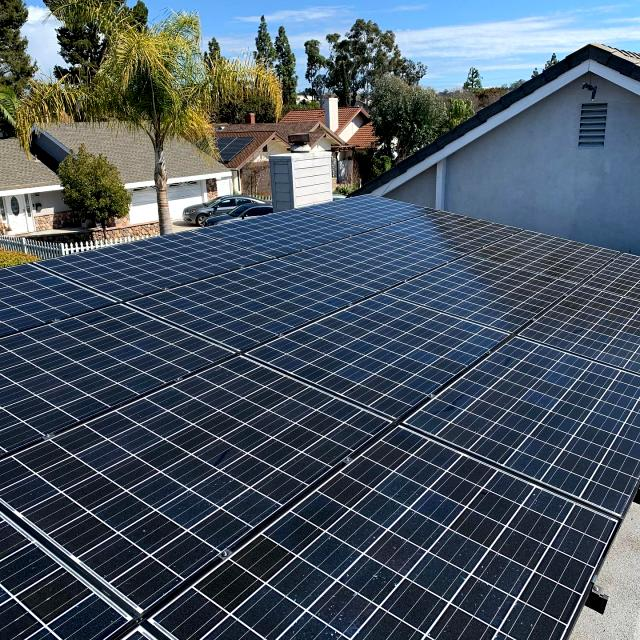dust: (374, 490, 544, 633), (395, 324, 593, 444), (188, 506, 335, 640)
